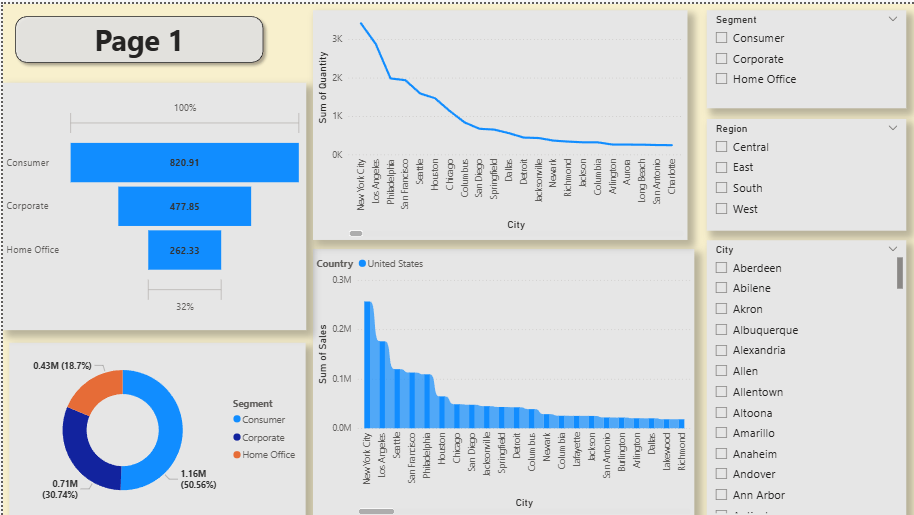

The dashboard page shown, as its layout file describes it:
{"tool":"powerbi","page":{"name":"Page 2","canvas":[1280,720],"ordinal":1},"visuals":[{"type":"donutChart","fields":{"Y":["Sum(Superstore.Sales)"],"Category":["Superstore.Segment"]},"box":[9.6,474.8,415.8,245.6],"z":5000},{"type":"ribbonChart","fields":{"Category":["Superstore.City"],"Y":["Sum(Superstore.Sales)"],"Series":["Superstore.Country"]},"box":[435,343.1,535.2,377.4],"z":6000},{"type":"slicer","fields":{"Values":["Superstore.Segment"]},"box":[988,9.6,279.9,137.2],"z":6001},{"type":"slicer","fields":{"Values":["Superstore.Region"]},"box":[988,160.5,279.9,156.4],"z":6002},{"type":"slicer","fields":{"Values":["Superstore.City"]},"box":[988,332.1,279.9,388.3],"z":6003},{"type":"funnel","fields":{"Category":["Superstore.Segment"],"Y":["Sum(Superstore.Discount)"]},"box":[0,111.1,425.4,347.2],"z":6004},{"type":"lineChart","fields":{"Y":["Sum(Superstore.Quantity)"],"Category":["Superstore.City"]},"box":[435,9.6,525.6,322.5],"z":6005},{"type":"pageNavigator","box":[9.6,9.6,365,82.3],"z":6006}]}

Visuals, with their boxes in screenshot pixels (x1, y1, x2, y2), scaled from the page's 1280x720 canvas onto the 914x515 screenshot:
donutChart - Sum(Superstore.Sales) x Superstore.Segment: 7, 340, 304, 514
ribbonChart - Superstore.City x Sum(Superstore.Sales): 311, 245, 693, 514
slicer - Superstore.Segment: 705, 7, 905, 105
slicer - Superstore.Region: 705, 115, 905, 227
slicer - Superstore.City: 705, 238, 905, 514
funnel - Superstore.Segment x Sum(Superstore.Discount): 0, 79, 304, 328
lineChart - Sum(Superstore.Quantity) x Superstore.City: 311, 7, 686, 238
pageNavigator: 7, 7, 267, 66
